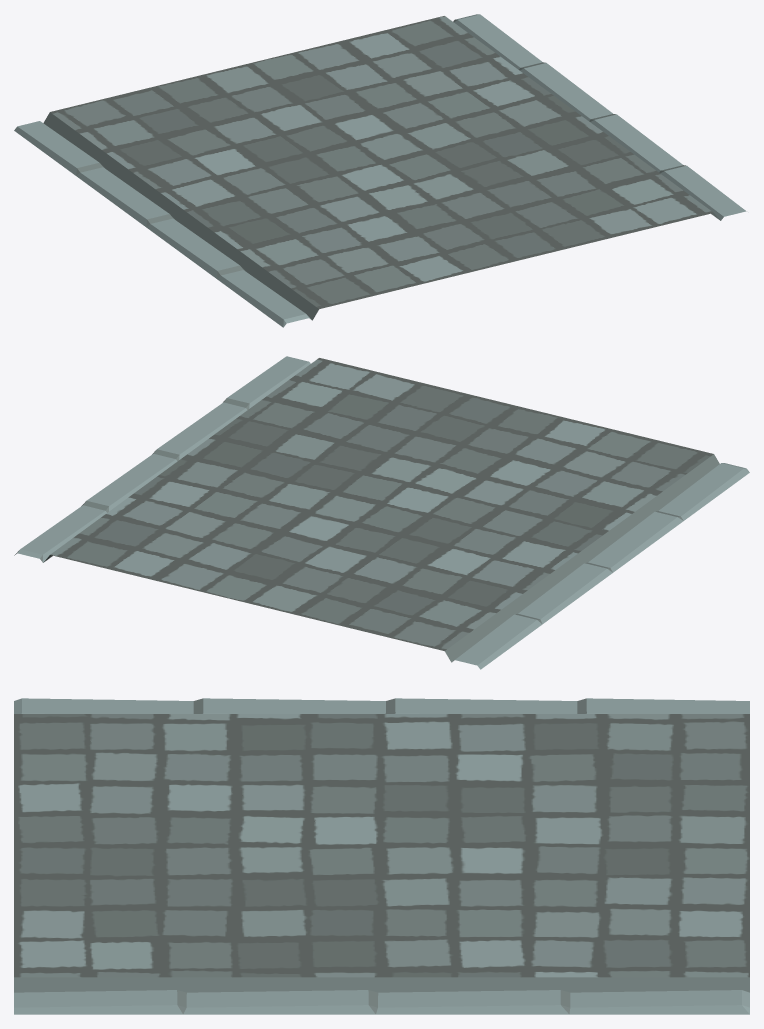
Rendered from NS_Terrain_Walkway_Narrow.fbx.
The picture shows the model from 3 angles, top to bottom: view 1: azimuth 30°, elevation 25°; view 2: azimuth 150°, elevation 25°; view 3: azimuth 270°, elevation 25°; orthographic projection. The views are drawn at different scales.
Visible parts, largest first — view 1: NS_Terrain_Walkway_Narrow; view 2: NS_Terrain_Walkway_Narrow; view 3: NS_Terrain_Walkway_Narrow.
Part boxes in pixels (<box>): NS_Terrain_Walkway_Narrow: <box>14,14,746,327</box>; NS_Terrain_Walkway_Narrow: <box>14,356,749,669</box>; NS_Terrain_Walkway_Narrow: <box>14,698,749,1014</box>.
Bounding box in the file's own units: 400 × 8.05 × 400.
